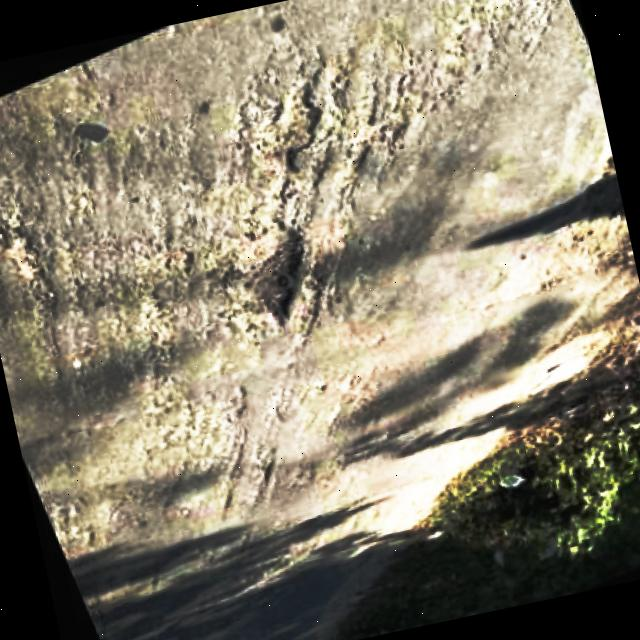pothole: (214, 207, 323, 336), (238, 74, 340, 192), (0, 219, 61, 322)
